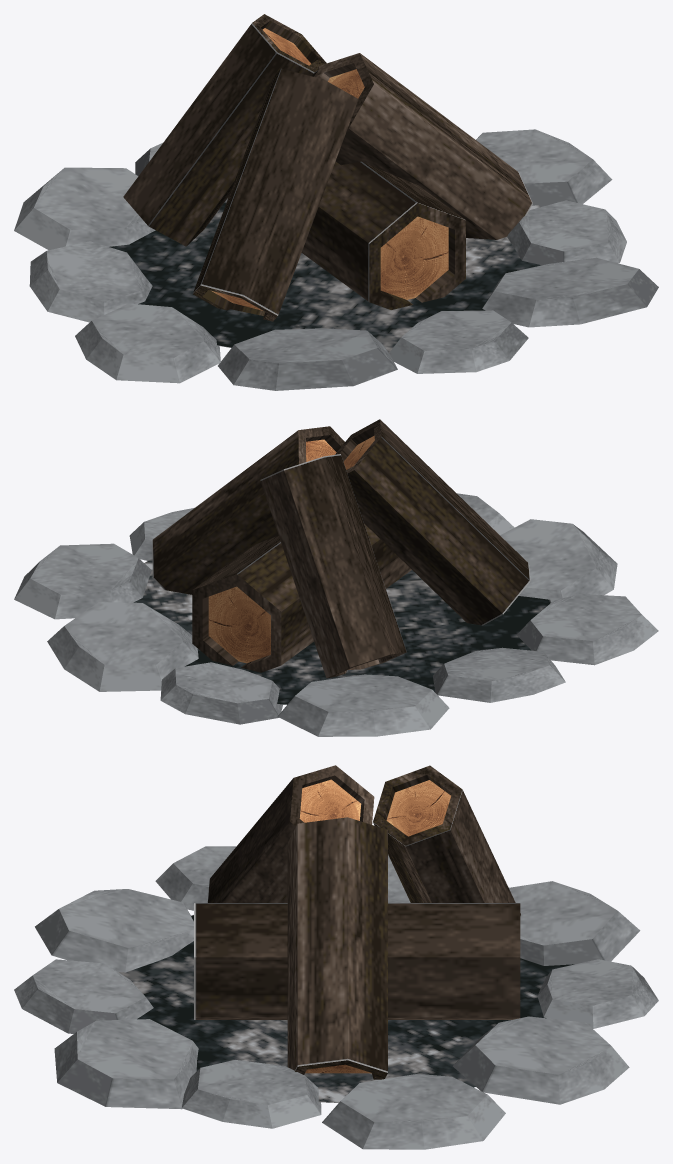
Rendered from Campfire.fbx.
The picture shows the model from 3 angles, top to bottom: view 1: azimuth 30°, elevation 25°; view 2: azimuth 150°, elevation 25°; view 3: azimuth 270°, elevation 25°; orthographic projection. The views are drawn at different scales.
Visible parts, largest first — view 1: Campfire; view 2: Campfire; view 3: Campfire.
Boxes of the visible parts, left/top/right/bottom form: Campfire: left=14, top=14, right=658, bottom=390; Campfire: left=14, top=419, right=658, bottom=736; Campfire: left=14, top=765, right=658, bottom=1149.
Size of the model in its own units: 665 by 265 by 622.
